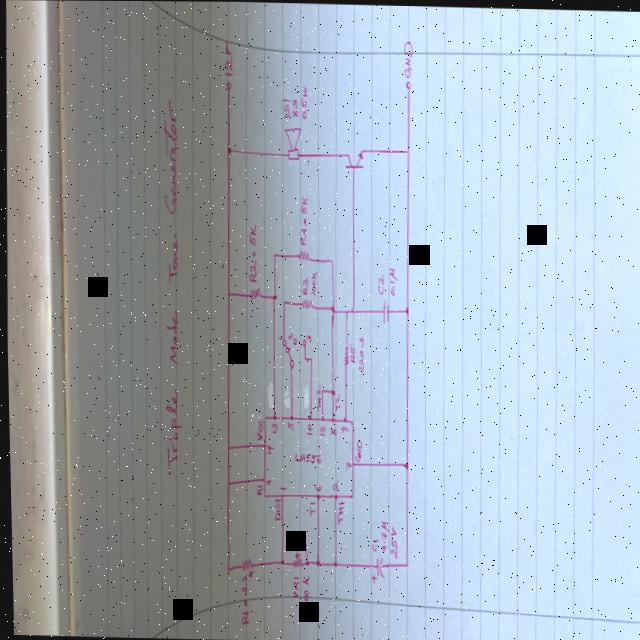capacitor: (368, 555, 382, 583), (380, 297, 388, 323)
junction: (401, 459, 407, 469), (348, 303, 353, 314), (270, 292, 275, 300), (313, 556, 317, 566), (403, 304, 407, 314), (328, 303, 332, 313), (328, 256, 333, 264), (330, 558, 334, 567), (226, 145, 230, 154), (277, 557, 281, 565), (302, 558, 306, 566), (329, 387, 333, 395), (271, 251, 275, 258), (402, 560, 406, 567), (224, 444, 228, 450), (223, 479, 227, 485), (405, 147, 409, 153), (319, 386, 322, 394), (223, 565, 226, 572), (281, 298, 284, 304), (226, 290, 229, 296), (301, 541, 304, 547), (292, 541, 295, 547), (308, 355, 311, 361), (342, 308, 345, 314), (302, 355, 305, 360)
resistor: (247, 284, 260, 300), (289, 551, 300, 569), (237, 556, 251, 570), (299, 296, 311, 309), (296, 249, 308, 261), (341, 343, 347, 366)
switch: (279, 336, 296, 368)
terminal: (224, 80, 231, 90), (404, 79, 410, 89), (300, 338, 304, 347)
text: (155, 95, 187, 477), (236, 568, 251, 625), (245, 222, 255, 282), (297, 192, 307, 246), (401, 39, 414, 78), (222, 40, 233, 77), (291, 450, 319, 464), (386, 265, 398, 296), (297, 573, 307, 607), (299, 85, 309, 119), (386, 523, 395, 559), (378, 519, 387, 553), (355, 334, 363, 372), (312, 380, 320, 411), (307, 269, 316, 296), (288, 574, 297, 598), (334, 499, 342, 525), (352, 437, 360, 462), (281, 97, 290, 119), (375, 273, 383, 296), (271, 497, 278, 521), (254, 417, 260, 441), (300, 276, 307, 295), (291, 96, 297, 118), (347, 341, 353, 363), (315, 423, 324, 437), (332, 391, 338, 411), (328, 477, 336, 492), (306, 499, 313, 516), (303, 422, 310, 436), (263, 442, 271, 454), (369, 536, 375, 552), (310, 482, 319, 492), (254, 483, 260, 497), (269, 420, 275, 434), (284, 420, 291, 432), (337, 425, 346, 433), (343, 459, 349, 471), (327, 425, 334, 435), (276, 483, 284, 491), (263, 476, 269, 486), (303, 332, 309, 342), (286, 331, 291, 341), (275, 333, 280, 340)
transistor: (343, 142, 363, 169)
